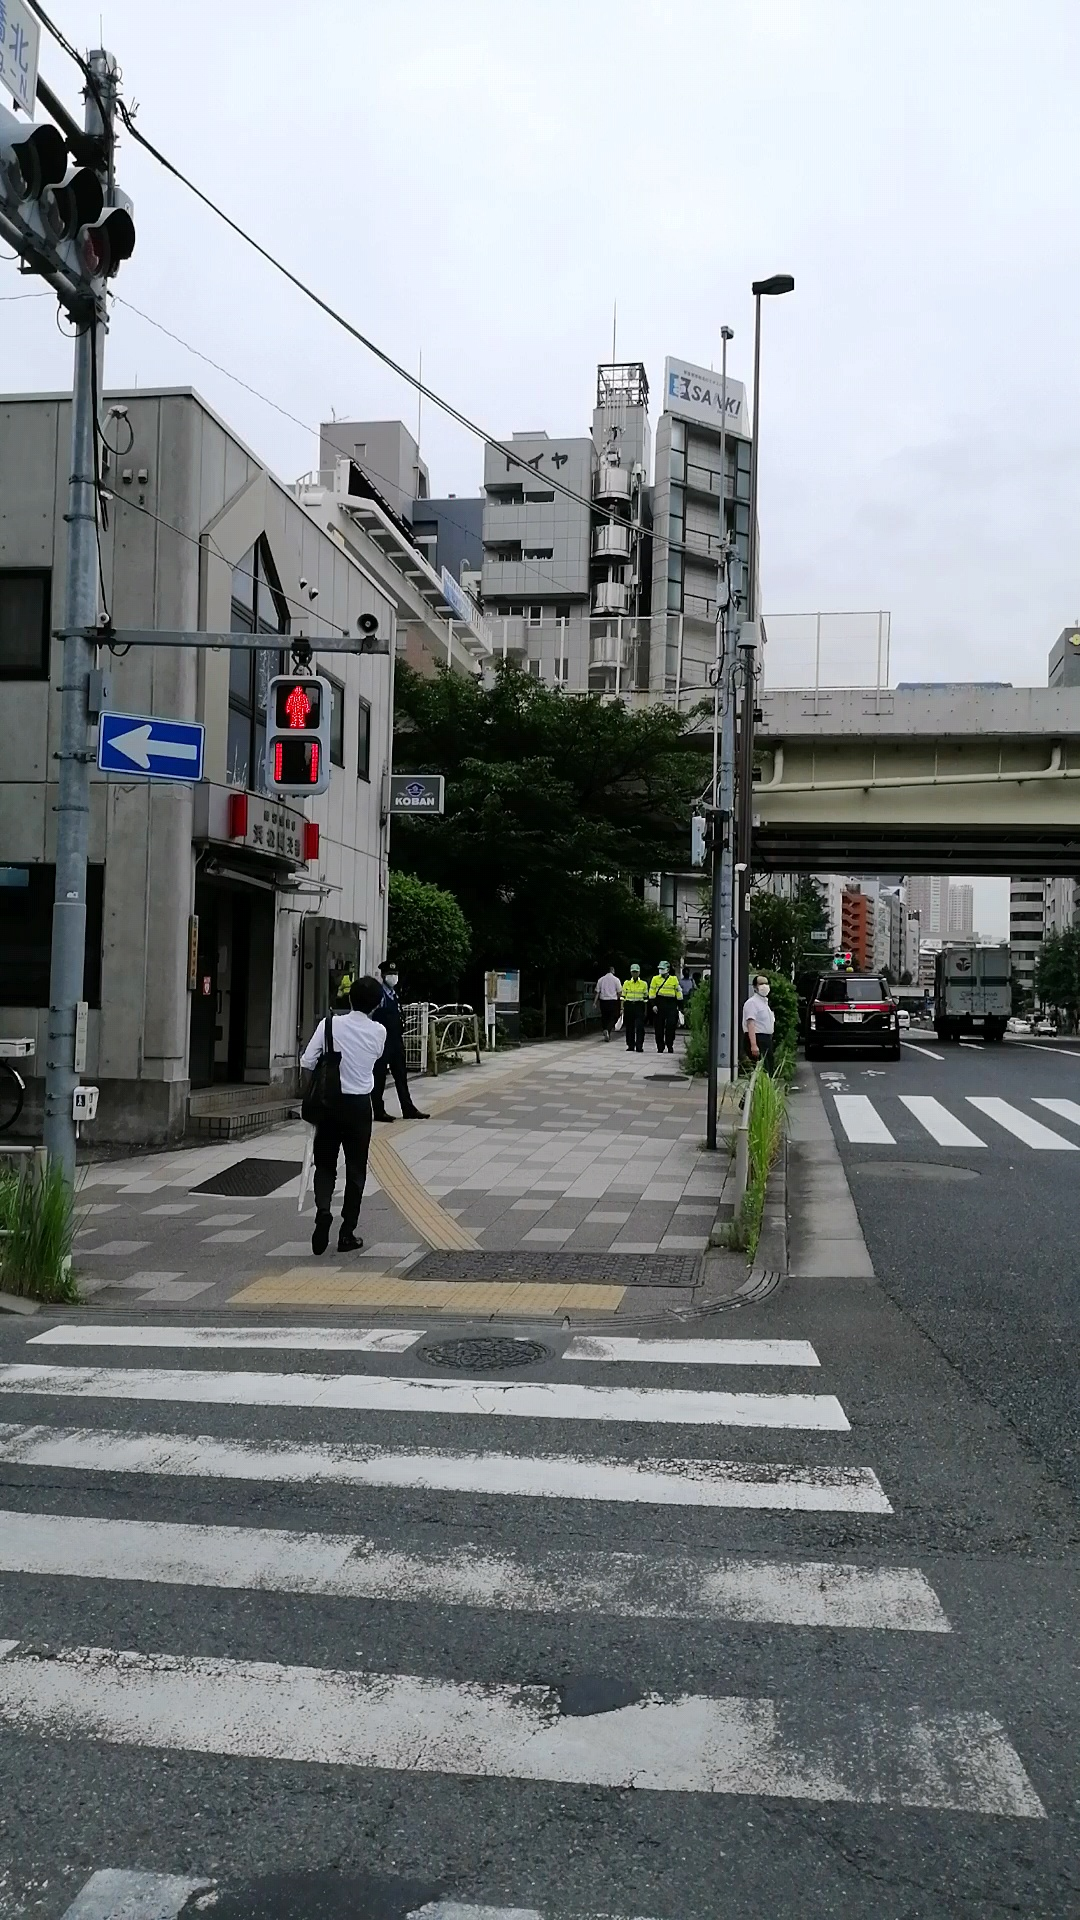red: (265, 673, 328, 793)
